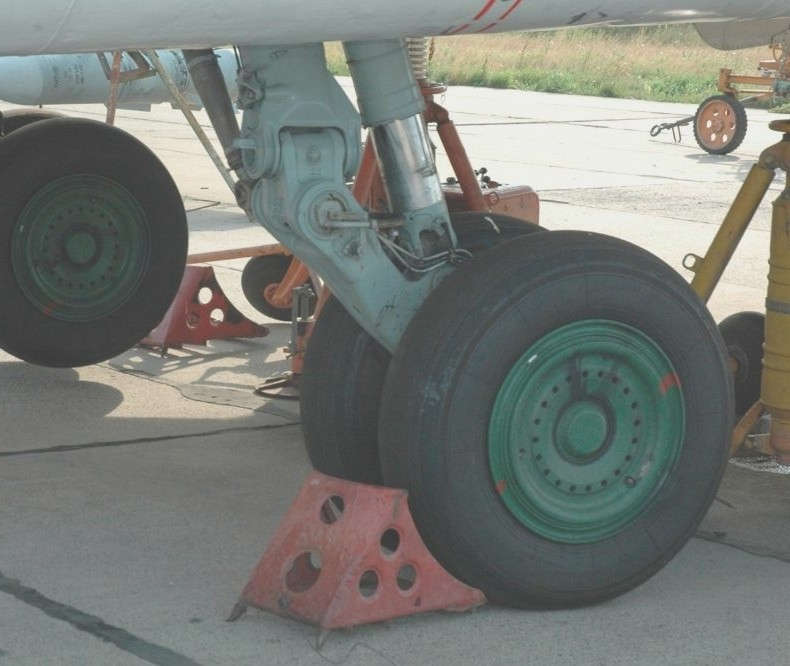chock: (224, 469, 488, 648)
wheel: (378, 228, 739, 609), (0, 111, 187, 370)
